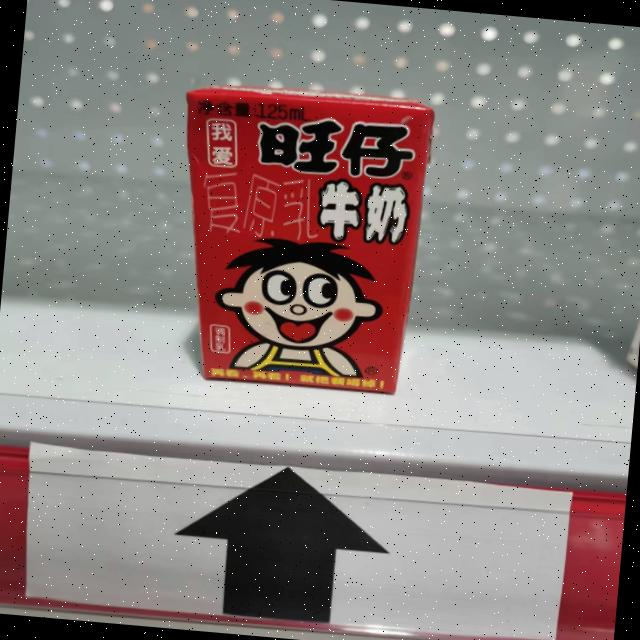wangzai_milk: (213, 232, 384, 380)
